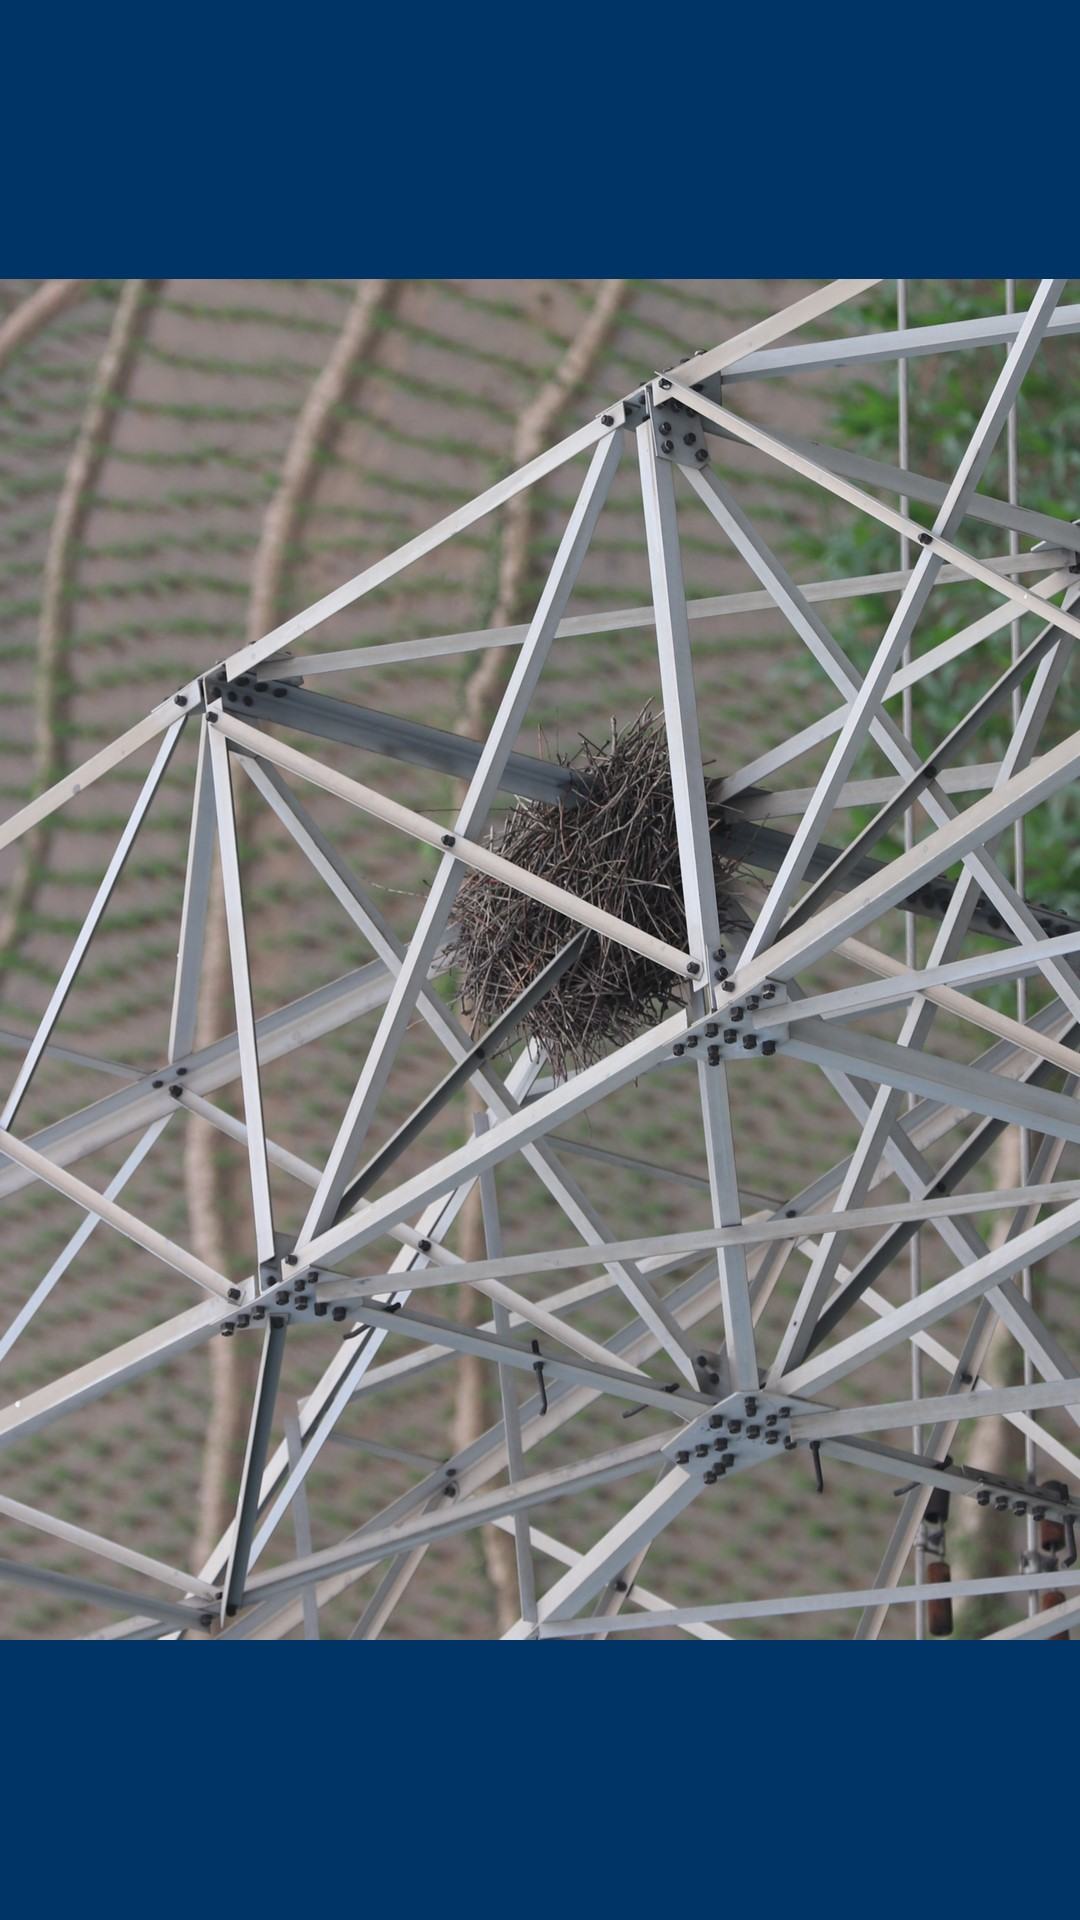niaowo: (396, 729, 775, 1084)
